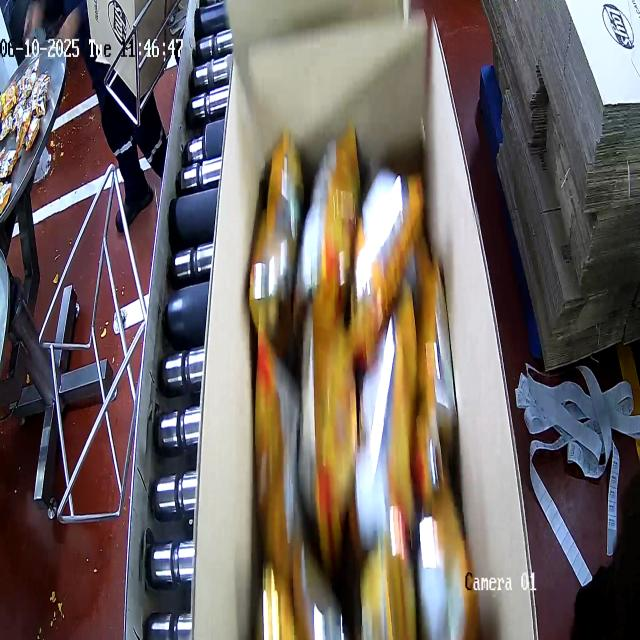FRENCH_CHEESE: (240, 121, 485, 640)
